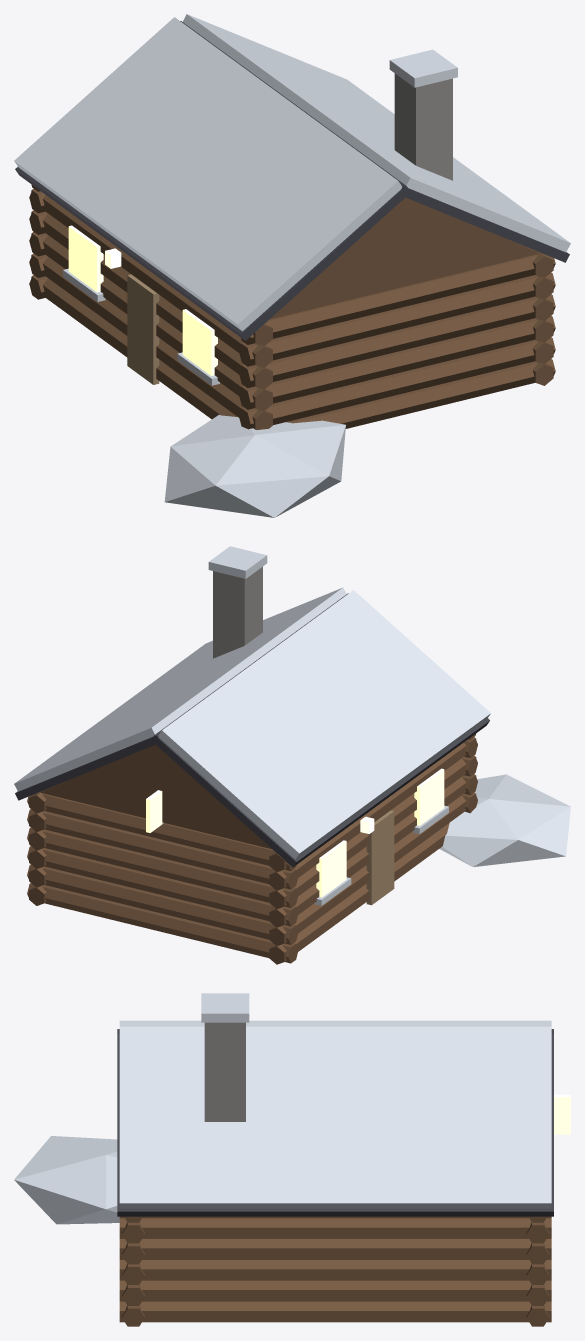
File: cabin.glb
3 views of the same model, one above another, from view 1: azimuth 30°, elevation 25°; view 2: azimuth 150°, elevation 25°; view 3: azimuth 270°, elevation 25° (orthographic). The views are drawn at different scales.
Visible parts, largest first — view 1: cabin; view 2: cabin; view 3: cabin.
Part boxes in pixels (left/top/right/bottom): cabin: left=14, top=14, right=570, bottom=517; cabin: left=14, top=546, right=570, bottom=964; cabin: left=14, top=993, right=570, bottom=1326.
Bounding box in the file's own units: 10.03 × 7.69 × 12.12.
